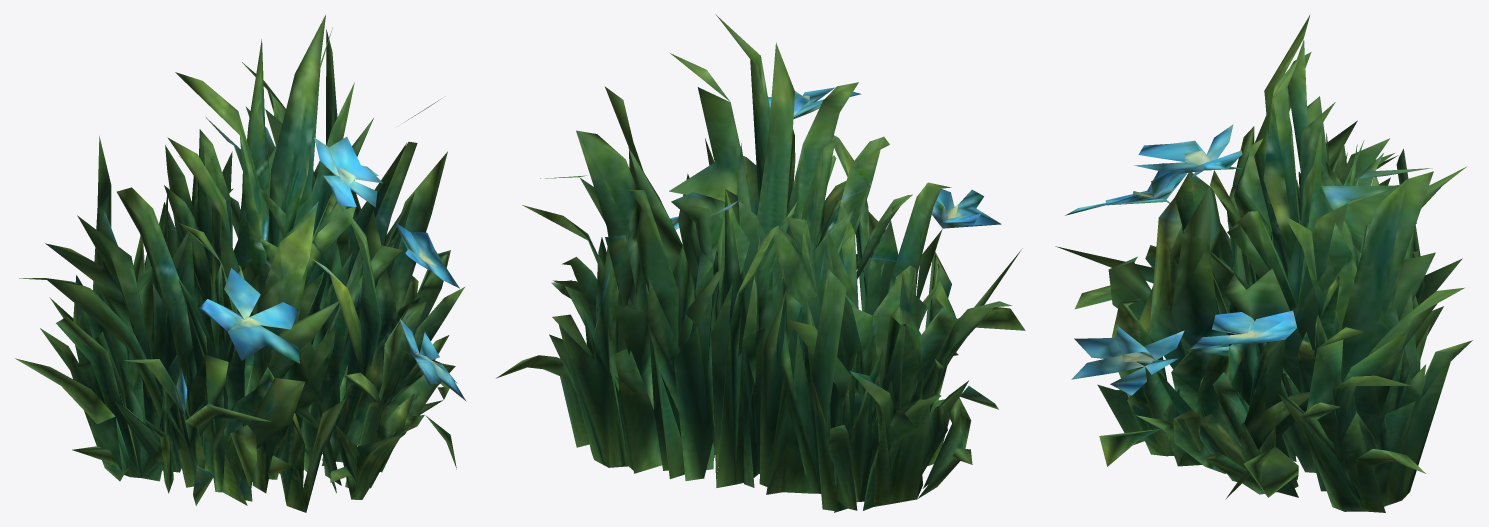
Rendered from grass_glow.glb.
The picture shows the model from 3 angles, left to right: view 1: azimuth 30°, elevation 25°; view 2: azimuth 150°, elevation 25°; view 3: azimuth 270°, elevation 25°; orthographic projection. The views are drawn at different scales.
Visible parts, largest first — view 1: plant; view 2: plant; view 3: plant.
Part boxes in pixels (left/top/right/bottom): plant: left=15, top=15, right=466, bottom=512; plant: left=496, top=14, right=1025, bottom=512; plant: left=1055, top=15, right=1472, bottom=512.
Size of the model in its own units: 1.09 by 1 by 0.9274.
Materials: 1 (1 with a texture image).
